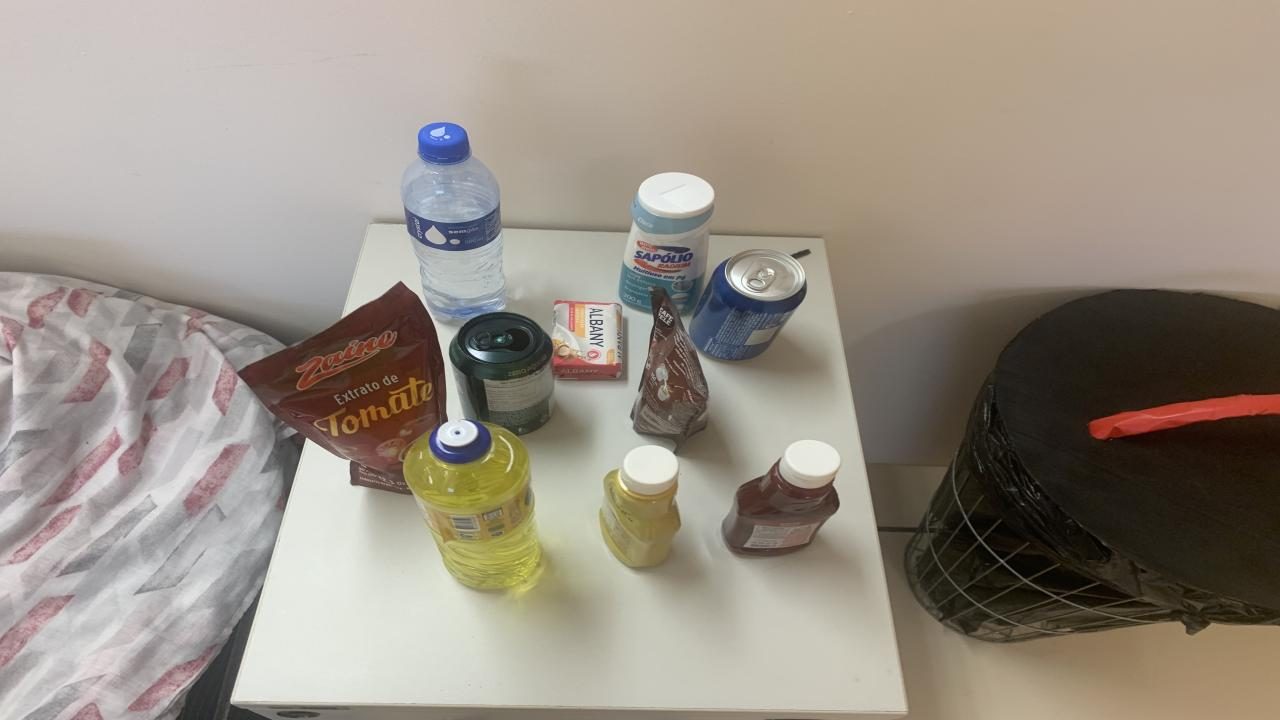Cleaner-Cleanup_Items: (618, 172, 715, 313)
Coffee-Pantry_Items: (630, 287, 710, 452)
Detergent-Cleanup_Items: (402, 420, 540, 589)
Guarana_Can-Drinks: (450, 311, 552, 435)
Ketchup-Pantry_Items: (722, 441, 840, 557)
Mustard-Pantry_Items: (600, 444, 680, 566)
Soap-Cleanup_Items: (550, 300, 622, 381)
Tomato_Sauce-Pantry_Items: (240, 283, 448, 491)
Tonic-Drinks: (690, 249, 808, 360)
Water_Bottle-Drinks: (400, 122, 508, 321)
